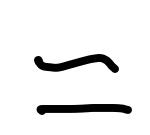eqv: (30, 51, 136, 116)
